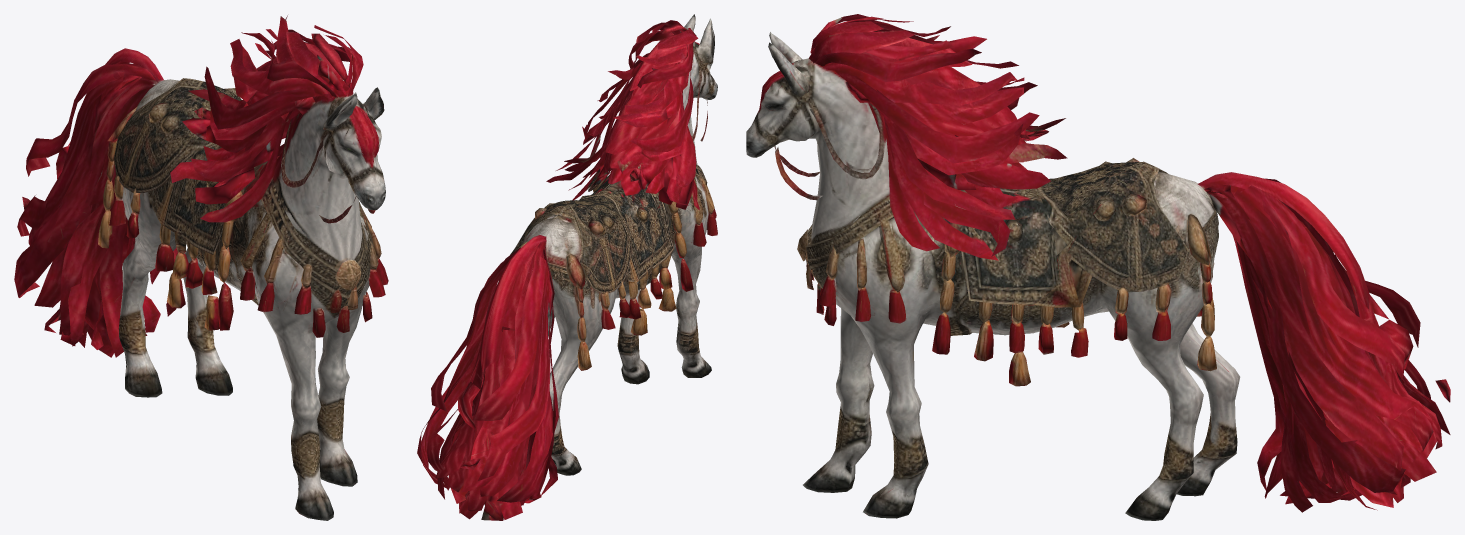
File: ngua_mesh.fbx
The picture shows the model from 3 angles, left to right: view 1: azimuth 30°, elevation 25°; view 2: azimuth 150°, elevation 25°; view 3: azimuth 270°, elevation 25°; orthographic projection. The views are drawn at different scales.
Parts seen in each view (by area): view 1: Mesh_0; view 2: Mesh_0; view 3: Mesh_0.
Part boxes in pixels (x1,y1,x2,y2): Mesh_0: [14, 15, 388, 520]; Mesh_0: [417, 14, 717, 520]; Mesh_0: [746, 14, 1450, 520].
Size of the model in its own units: 31.62 by 77.1 by 100.
1 material, 1 textured.
